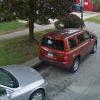Tree: (3, 0, 71, 33)
